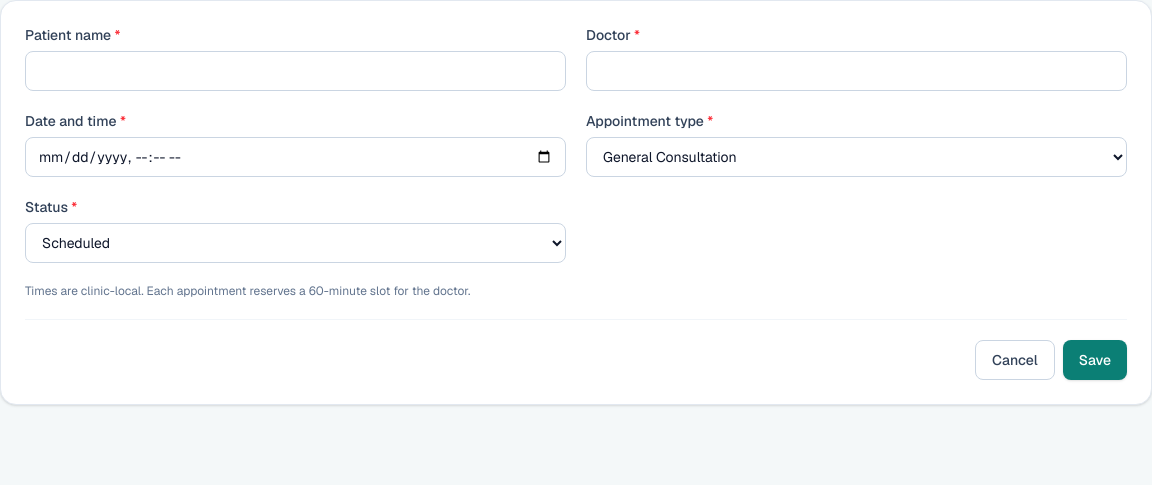
Scenario: AppointmentForm › displays a scheduling conflict from the API and does not report success
Type "Alex Morgan" into the field labelled "Patient name *" at (296, 71), box [25,51,566,91]
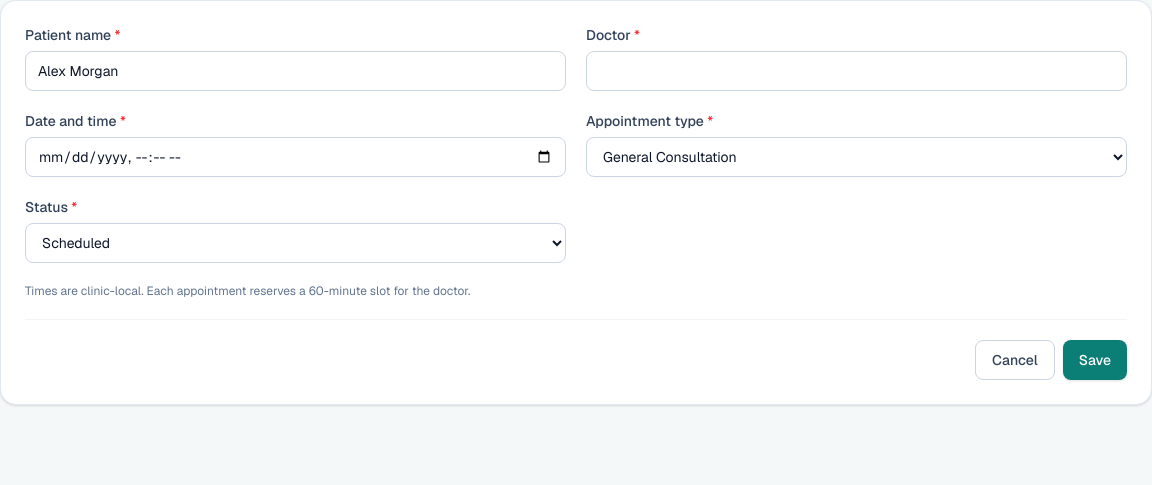
Type "Dr. Emily Carter" into the field labelled "Doctor *" at (856, 71), box [586,51,1127,91]
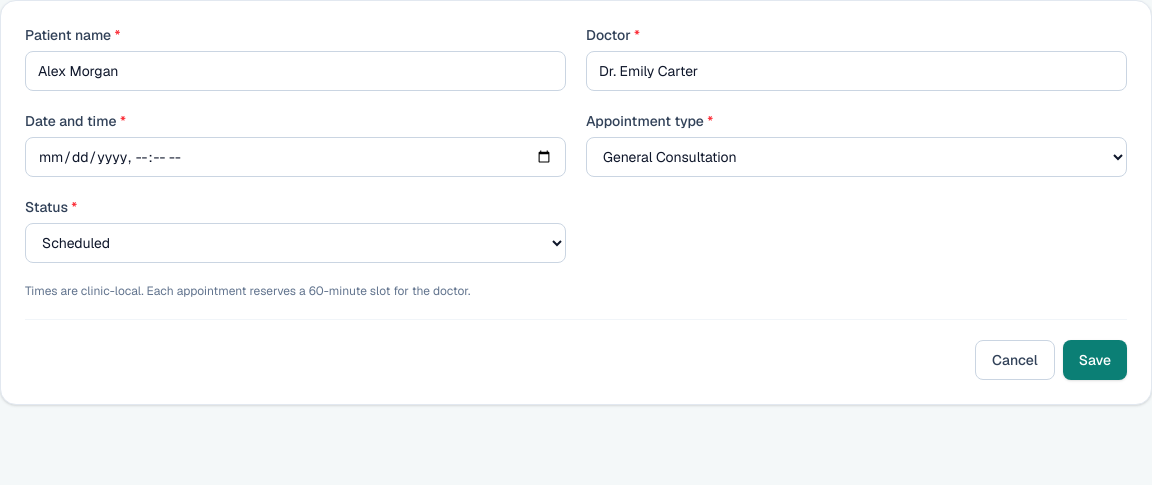
Type "2099-06-01T10:00" into the field labelled "Date and time *" at (296, 157), box [25,137,566,177]
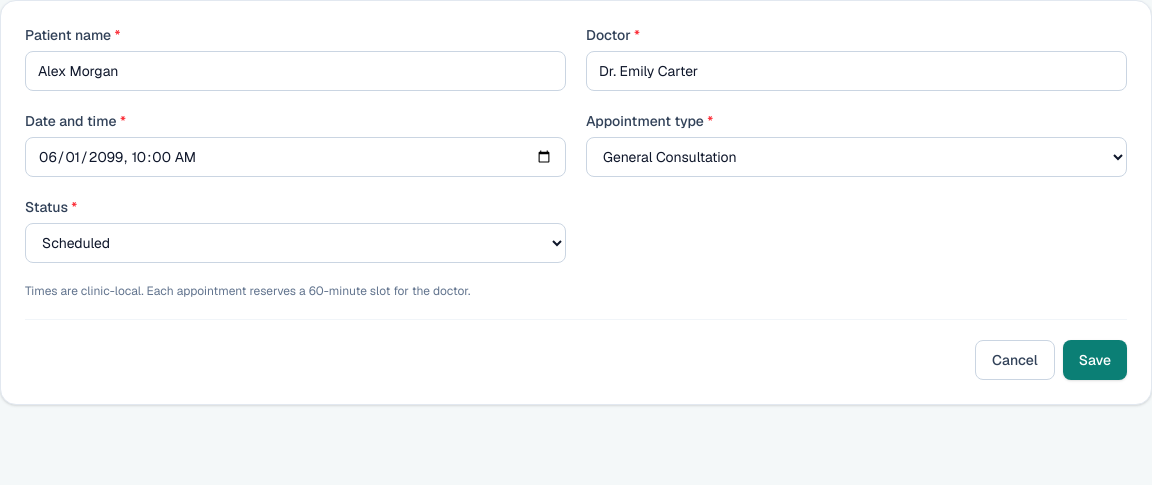
Click the button "Save" at (1095, 360), box [1063,340,1127,380]
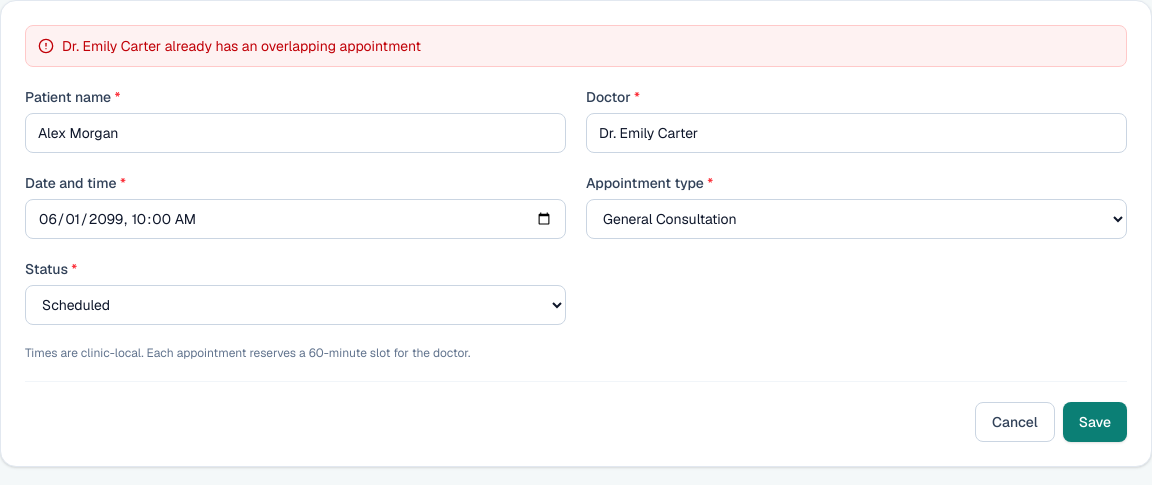
expect the text "Dr. Emily Carter already has an overlapping appointment" is shown: met, box [62,36,421,56]
